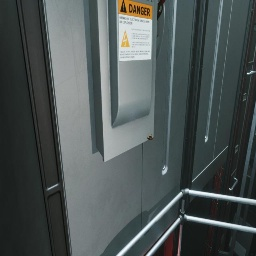SafetySwitchPanel ,: (88, 0, 166, 163)
